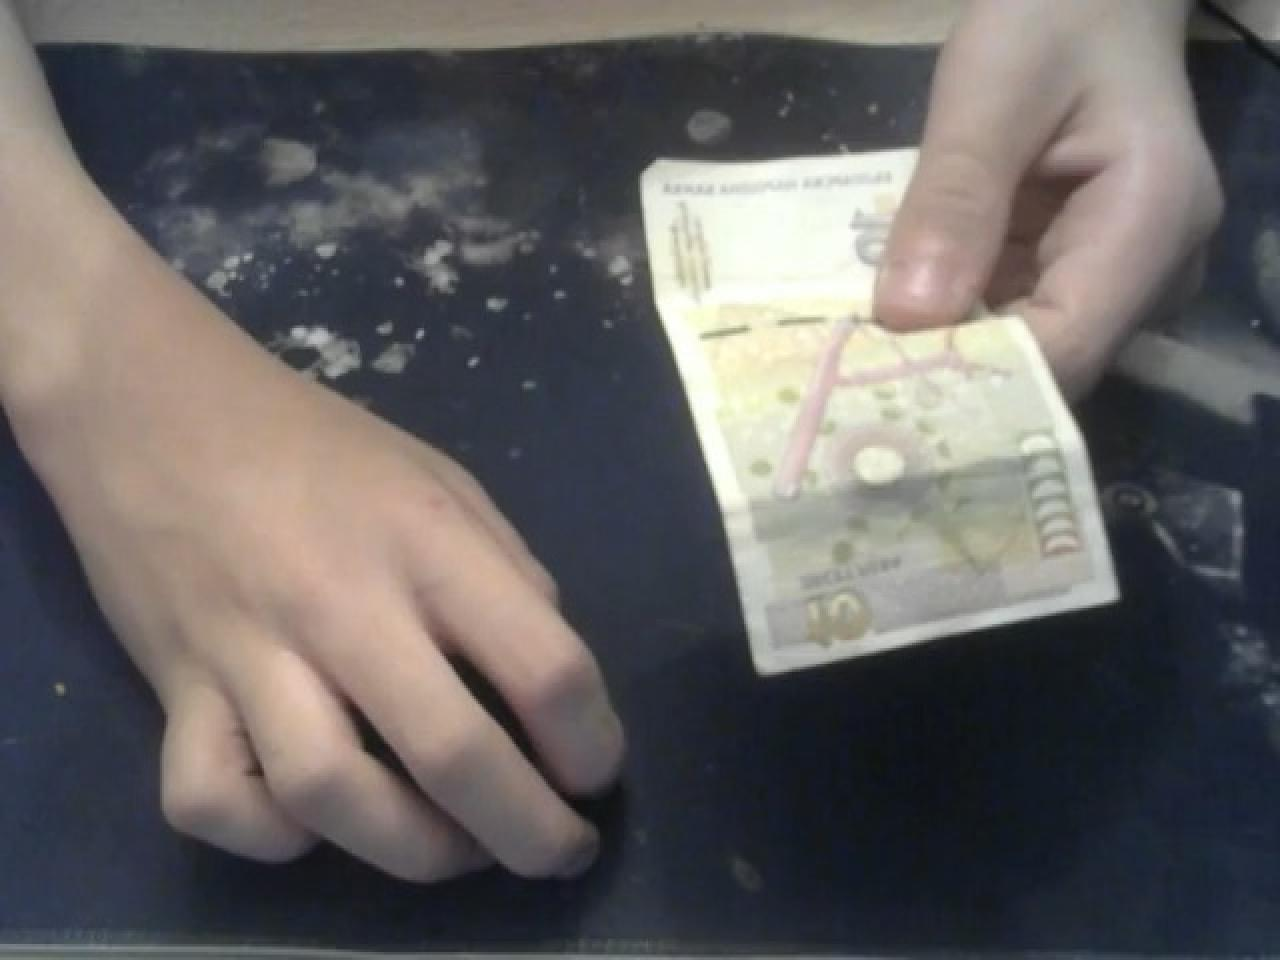10leva: (784, 578, 898, 676)
